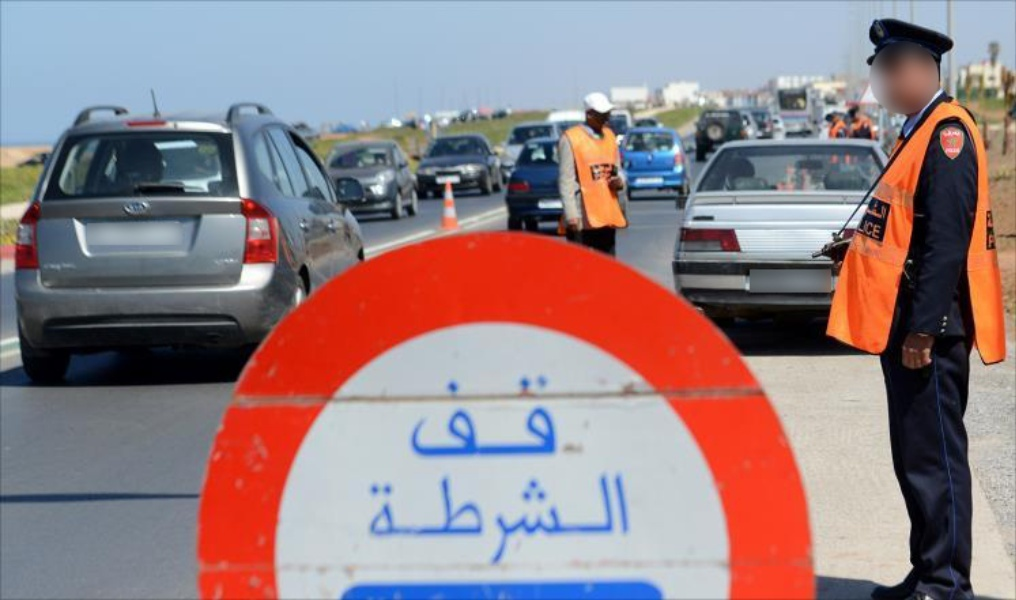text: (369, 473, 384, 569), (385, 473, 400, 569), (401, 473, 416, 569), (417, 473, 432, 569), (433, 473, 448, 569), (449, 473, 464, 569), (465, 473, 480, 569), (481, 473, 496, 569), (497, 473, 512, 569), (513, 473, 528, 569), (529, 473, 544, 569), (545, 473, 560, 569), (561, 473, 576, 569), (577, 473, 592, 569), (593, 473, 608, 569), (609, 473, 624, 569), (417, 373, 432, 458), (433, 373, 448, 458), (449, 373, 464, 458), (465, 373, 480, 458), (481, 373, 496, 458), (497, 373, 512, 458), (513, 373, 528, 458), (529, 373, 544, 458), (545, 373, 560, 458), (625, 473, 633, 569), (362, 473, 368, 569), (410, 373, 416, 458), (867, 220, 880, 241), (881, 196, 891, 222), (818, 273, 832, 289), (872, 196, 880, 222), (801, 270, 811, 286), (945, 147, 960, 156), (945, 130, 960, 138), (985, 213, 992, 229), (988, 233, 992, 249), (993, 233, 996, 249), (881, 220, 883, 241), (798, 270, 800, 286), (961, 147, 962, 156), (943, 130, 944, 138), (961, 130, 962, 138)
